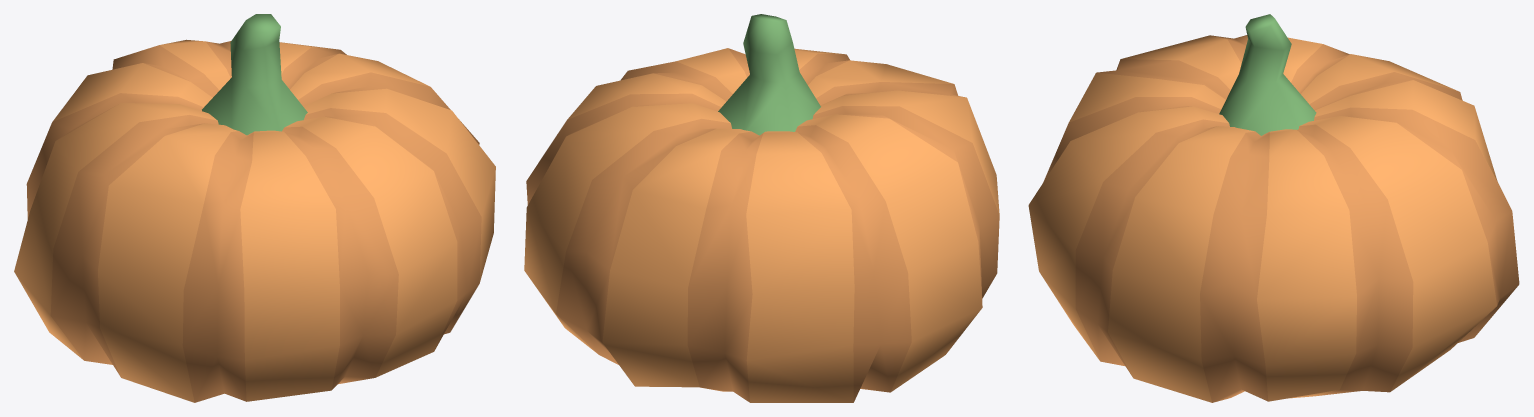
The model's file is SM_Prop_SmallPumpkin_01.obj.
The picture shows the model from 3 angles, left to right: view 1: azimuth 30°, elevation 25°; view 2: azimuth 150°, elevation 25°; view 3: azimuth 270°, elevation 25°; orthographic projection.
Parts seen in each view (by area): view 1: SM_Prop_SmallPumpkin_01_Mat_SwatchOverlay_PolygonTown_01_Inst; view 2: SM_Prop_SmallPumpkin_01_Mat_SwatchOverlay_PolygonTown_01_Inst; view 3: SM_Prop_SmallPumpkin_01_Mat_SwatchOverlay_PolygonTown_01_Inst.
Part boxes in pixels (x1,y1,x2,y2): SM_Prop_SmallPumpkin_01_Mat_SwatchOverlay_PolygonTown_01_Inst: (14, 14, 495, 402); SM_Prop_SmallPumpkin_01_Mat_SwatchOverlay_PolygonTown_01_Inst: (524, 14, 999, 402); SM_Prop_SmallPumpkin_01_Mat_SwatchOverlay_PolygonTown_01_Inst: (1028, 14, 1519, 402).
Size of the model in its own units: 0.9481 by 0.6955 by 0.9364.
1 material, 1 textured.
